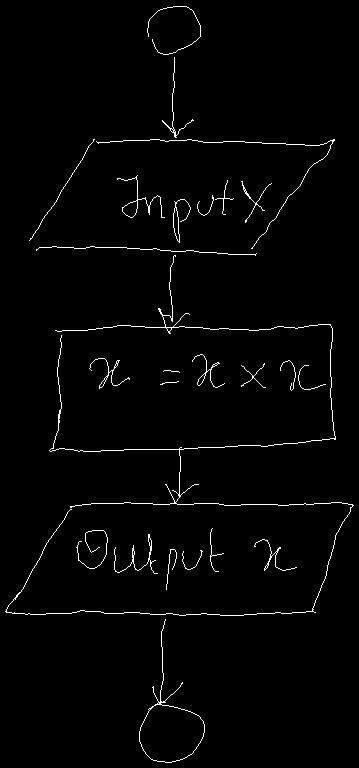arrow: (152, 619, 182, 703), (162, 57, 193, 137), (158, 255, 189, 333), (165, 447, 198, 503)
connection: (139, 702, 204, 762), (147, 6, 200, 54)
data: (5, 502, 353, 615), (29, 139, 334, 255)
process: (49, 324, 335, 451)
text: (76, 528, 296, 589), (117, 175, 271, 242), (89, 354, 325, 390)
